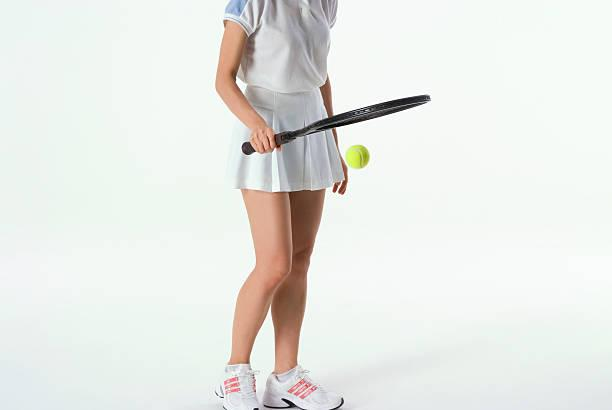ball_tennis: (344, 144, 370, 169)
